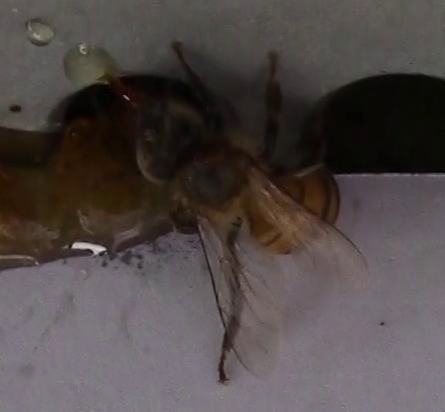Varroa destructor: (197, 140, 232, 168)
